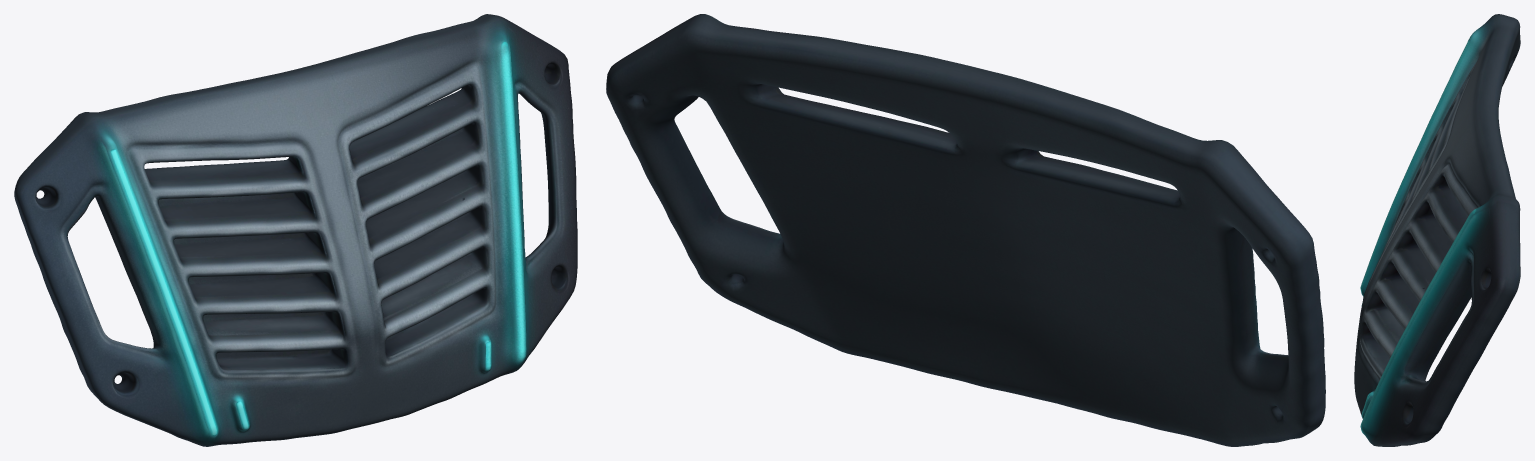
The model's file is tripo_convert_4671463a-3c6c-41c7-9fe8-7984055eddb9.fbx.
3 views of the same model, side by side, from view 1: azimuth 30°, elevation 25°; view 2: azimuth 150°, elevation 25°; view 3: azimuth 270°, elevation 25° (orthographic). The views are drawn at different scales.
Parts seen in each view (by area): view 1: tripo_node_4671463a; view 2: tripo_node_4671463a; view 3: tripo_node_4671463a.
Part boxes in pixels (x1,y1,x2,y2): tripo_node_4671463a: (14,14,577,446); tripo_node_4671463a: (606,14,1325,446); tripo_node_4671463a: (1354,14,1520,446).
Bounding box in the file's own units: 0.9789 × 0.5205 × 0.2784.
Materials: 1 (1 with a texture image).
